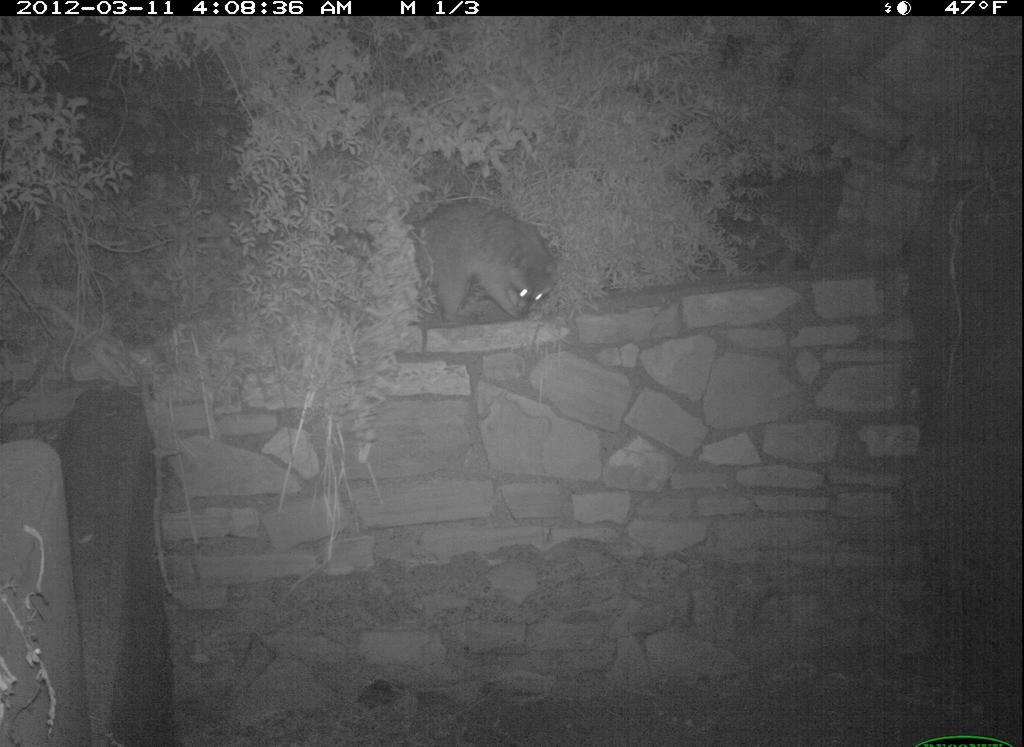raccoon: (417, 196, 566, 332)
